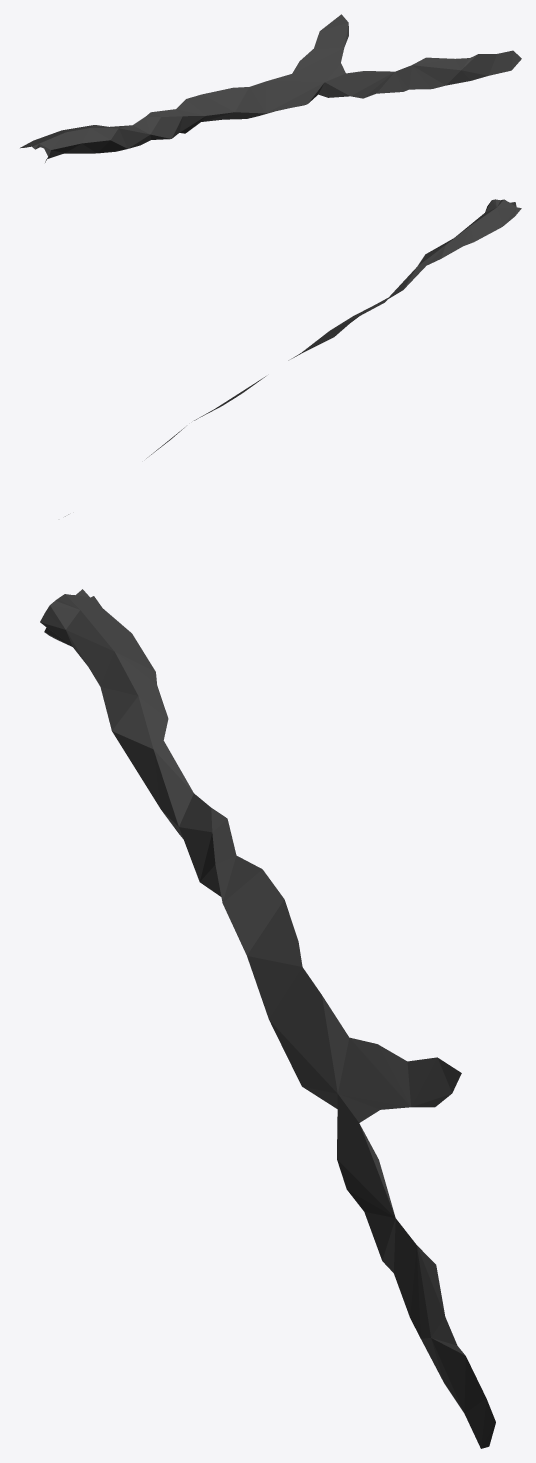
Rendered from A_thoracodorsal_A_thoracodorsal.glb.
The picture shows the model from 3 angles, top to bottom: view 1: azimuth 30°, elevation 25°; view 2: azimuth 210°, elevation 25°; view 3: azimuth 270°, elevation 25°; orthographic projection. The views are drawn at different scales.
Parts seen in each view (by area): view 1: A_thoracodorsal_A_thoracodorsal; view 2: A_thoracodorsal_A_thoracodorsal; view 3: A_thoracodorsal_A_thoracodorsal.
Boxes of the visible parts, x1,y1,x2,y2 form: A_thoracodorsal_A_thoracodorsal: (20,14,521,162); A_thoracodorsal_A_thoracodorsal: (65,199,521,516); A_thoracodorsal_A_thoracodorsal: (40,589,495,1448).
Bounding box in the file's own units: 0.0325 × 0.00729 × 0.0106.
Materials: 1 (1 with a texture image).
